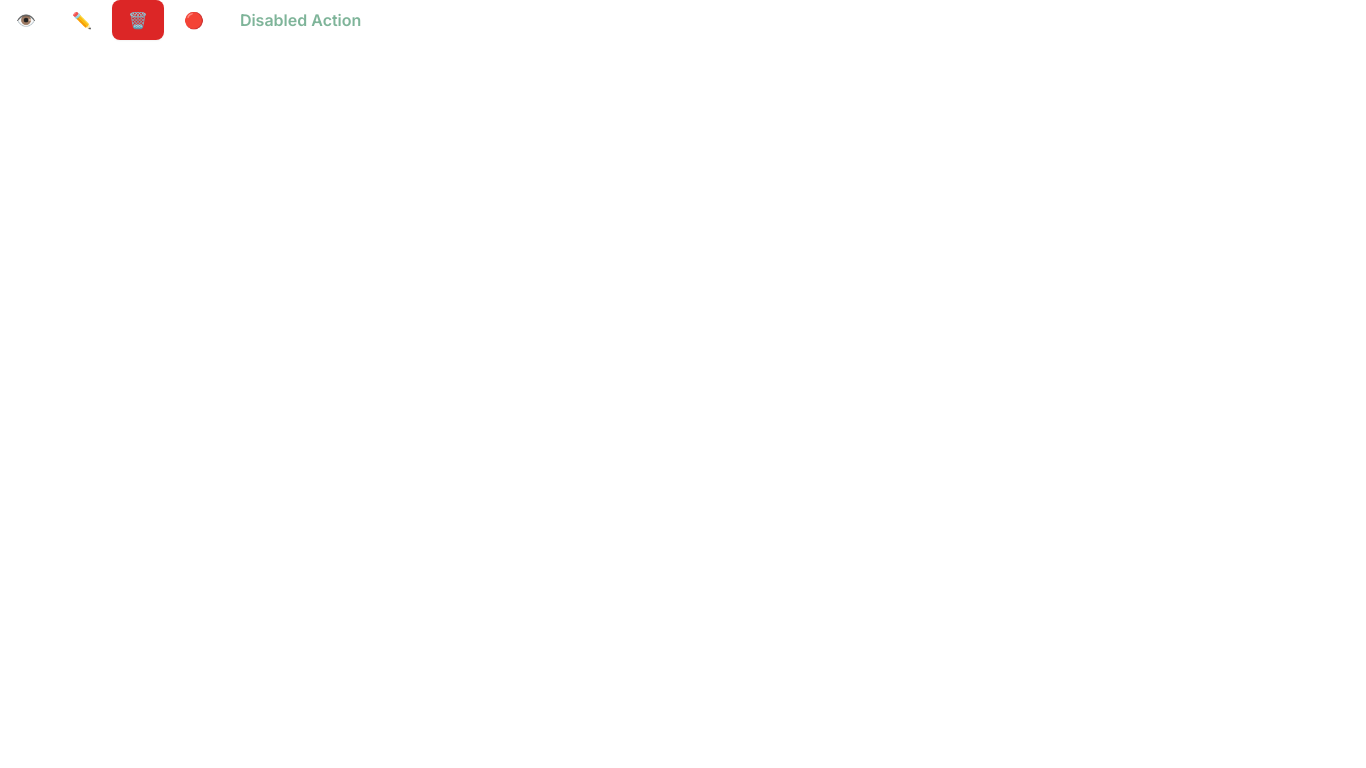
RowActions › cancels action when confirmation is cancelled
Step 1. Click the button named "Delete" → (138, 20), box top-left (112, 0), bottom-right (164, 40)
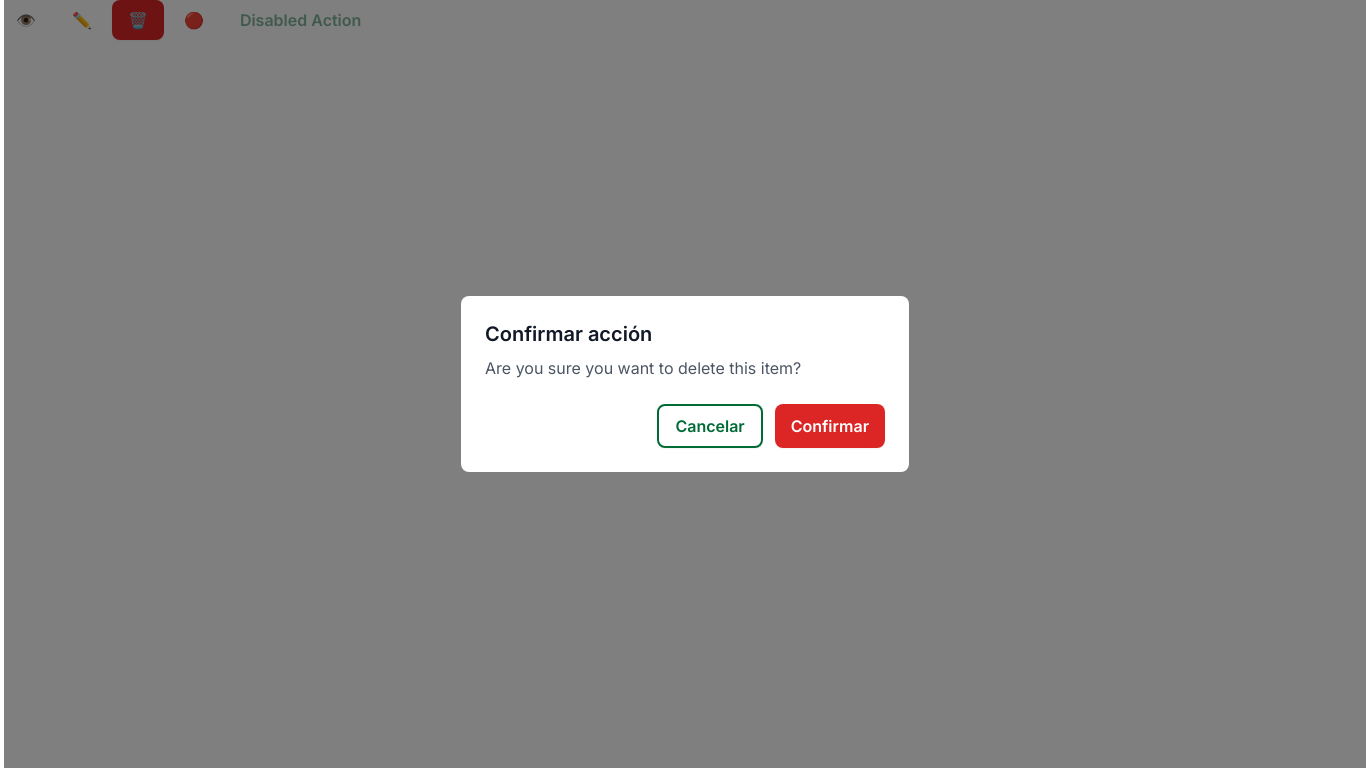
Step 2. Click the button "Cancelar" → (710, 426), box top-left (657, 404), bottom-right (763, 448)
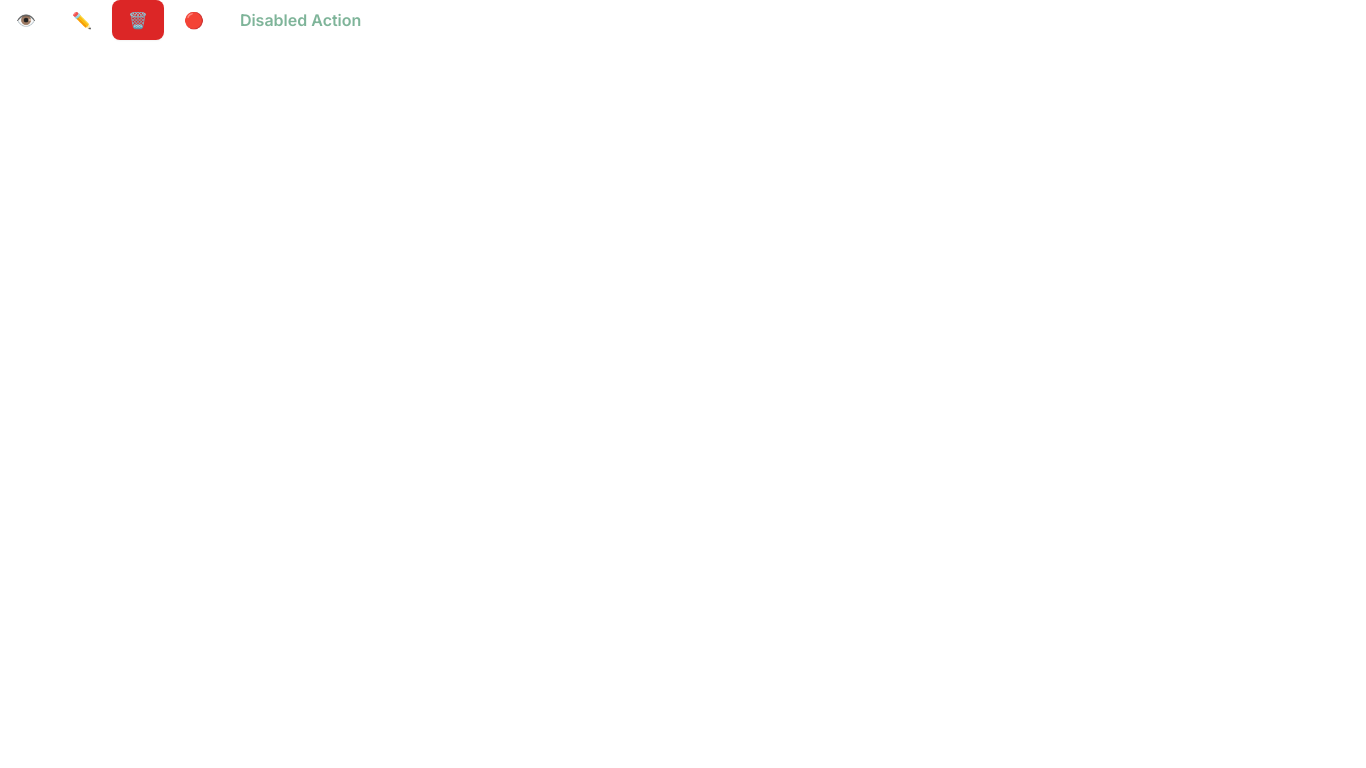
Result: the heading "Confirmar acción" is gone
